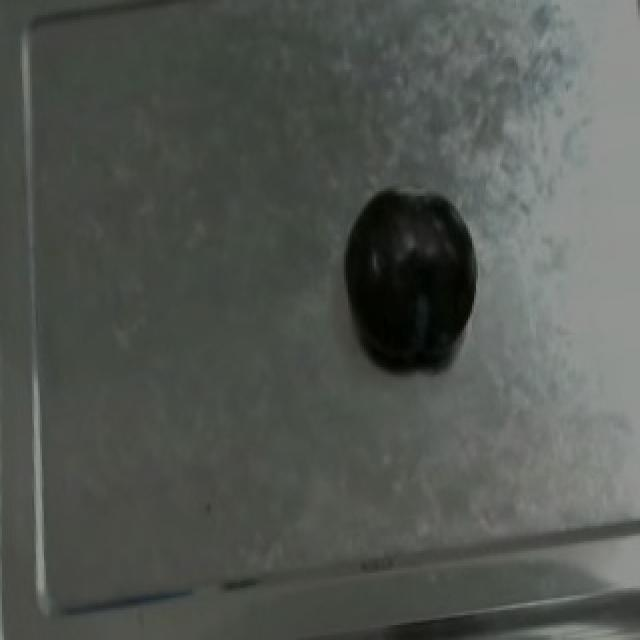Fruit: (334, 176, 482, 375)
